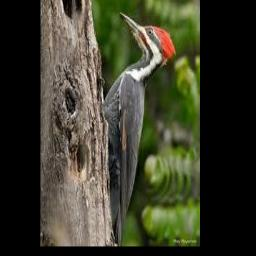Woodpecker: (102, 12, 176, 246)
